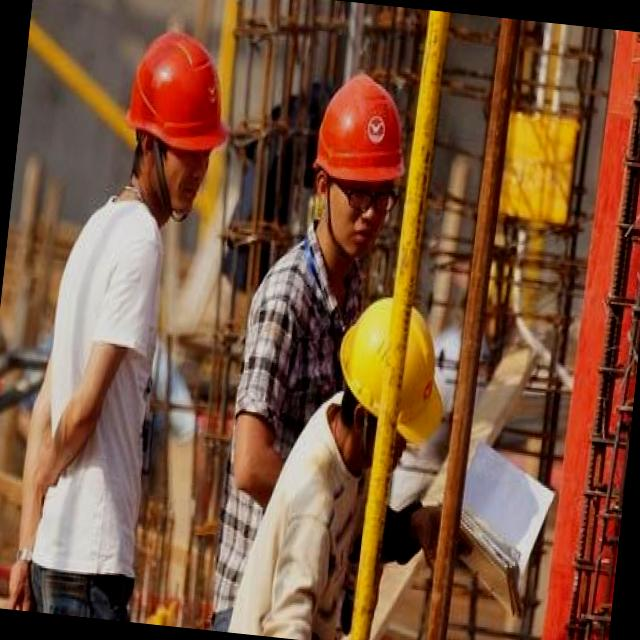helmet: (114, 22, 243, 180), (304, 61, 419, 216)
no-vest: (20, 180, 182, 606), (246, 398, 403, 640)
